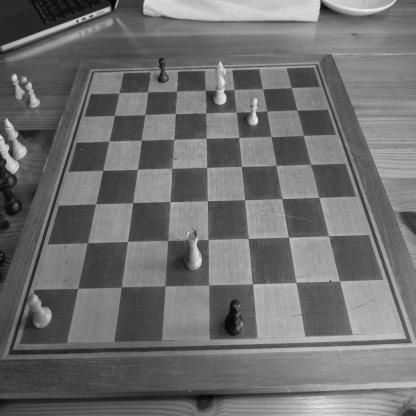black-pawn: (224, 299, 244, 336), (158, 57, 169, 83)
black-rook: (1, 177, 22, 217)
white-bishop: (3, 118, 28, 161), (0, 134, 20, 174)
white-knight: (213, 61, 227, 106)
white-pawn: (27, 294, 52, 329), (24, 81, 40, 109), (11, 74, 25, 100), (247, 97, 258, 126), (20, 76, 30, 102)
white-rook: (184, 228, 202, 271)
